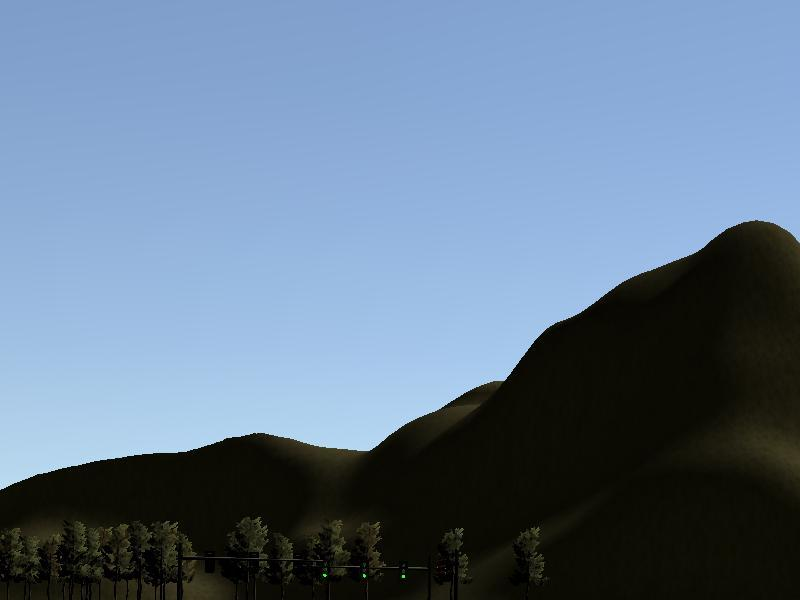Green: (398, 559, 411, 583), (318, 558, 330, 582), (362, 560, 371, 582)
